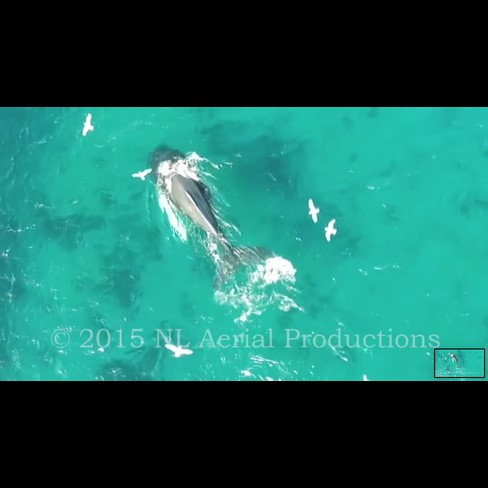hump: (147, 140, 278, 305)
